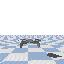drone: (17, 39, 41, 48)
